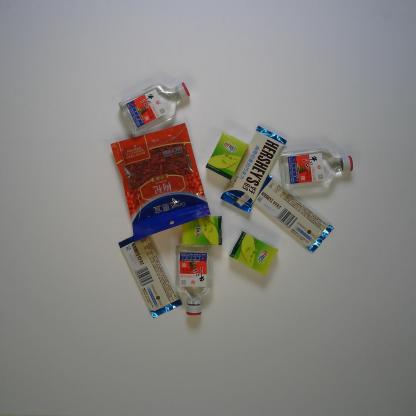Alcohol: (117, 80, 191, 137), (277, 147, 355, 194), (174, 242, 213, 320)
Chocolate: (250, 173, 336, 253), (221, 125, 288, 213), (118, 233, 181, 321)
Dried Fruit: (109, 122, 212, 243)
Tissue: (228, 230, 279, 277), (205, 133, 248, 180), (181, 214, 224, 250)
